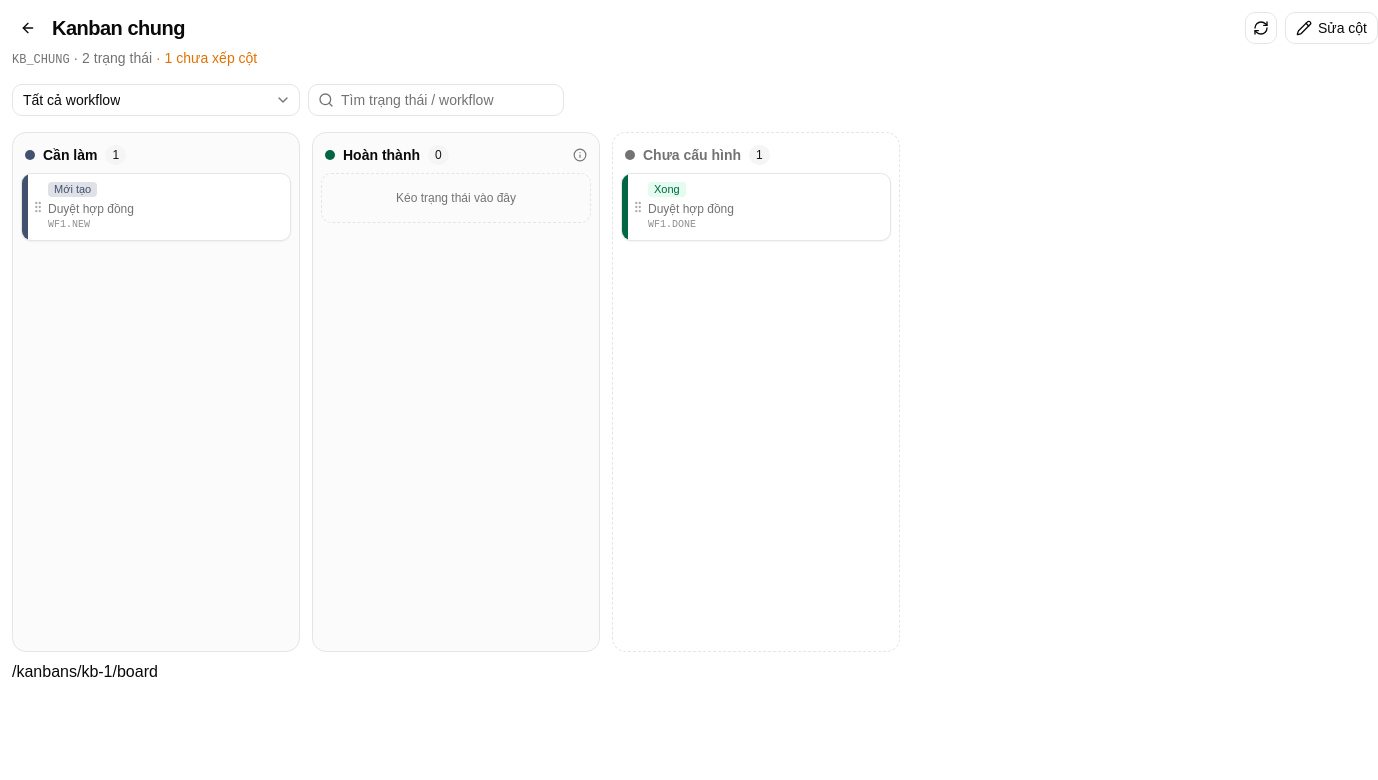
it: KanbanBoardPage › filters by workflow through the API and searches cards locally
The width and height of the screenshot is (1378, 780).
Expected: the element named "Cột Cần làm" is shown, [12,132,300,652]
Step 1. Click the dropdown named "Lọc theo workflow" → coordinates (72, 100), box [12,84,300,116]
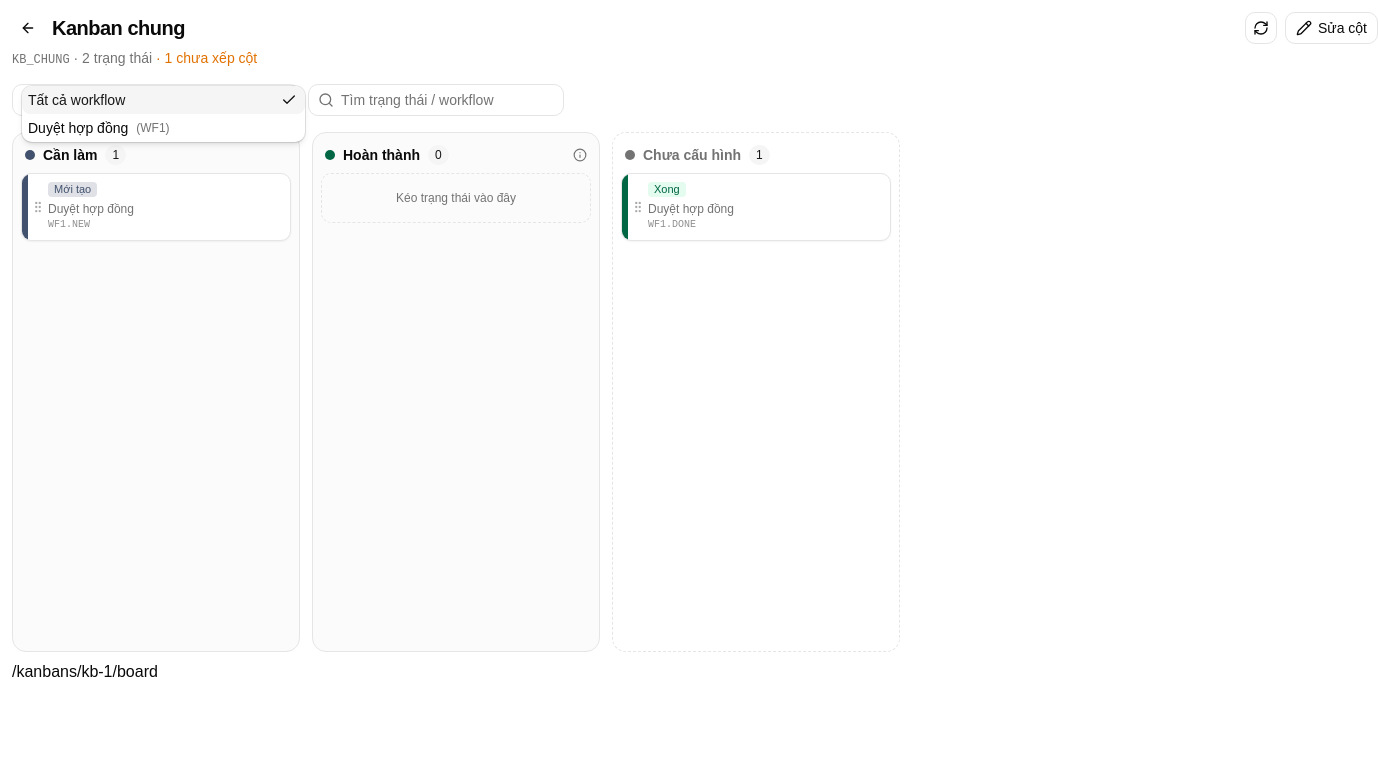
Step 2. Click the option "Duyệt hợp đồng (WF1)" → coordinates (99, 128), box [28,120,170,136]
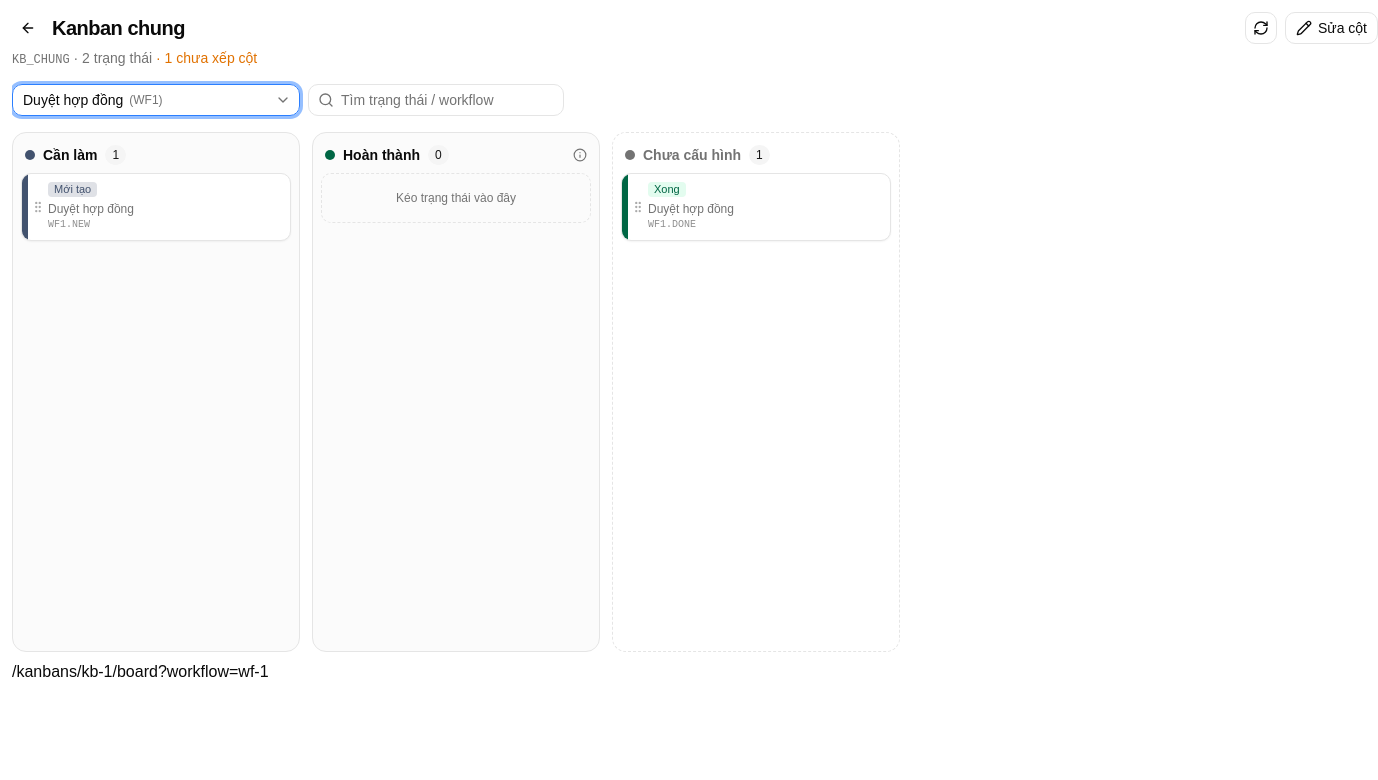
Step 3. Type "xong" into the search field labelled "Tìm trạng thái" → coordinates (436, 100), box [308,84,564,116]
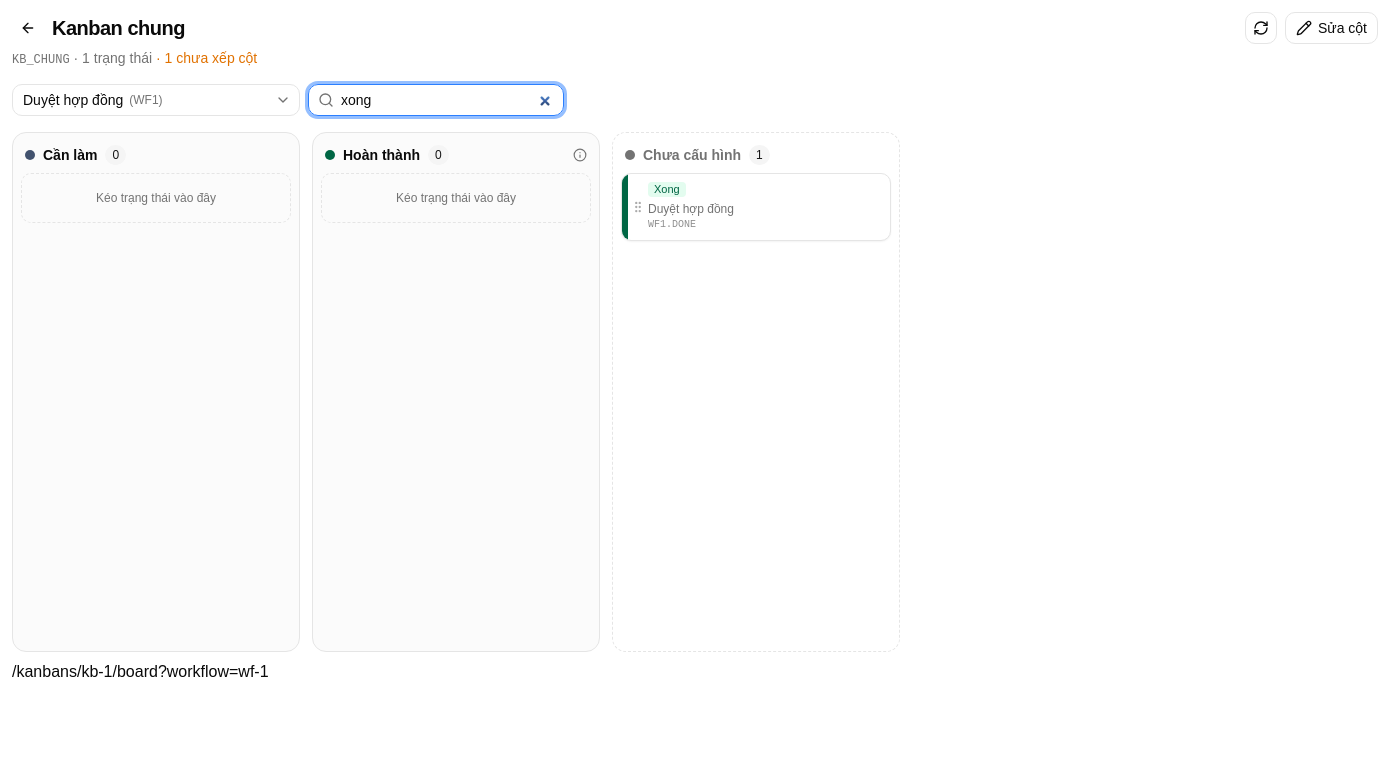
Expected: the text "WF1.DONE" is shown, [648,219,696,230]
Expected: the text "WF1.NEW" is gone
